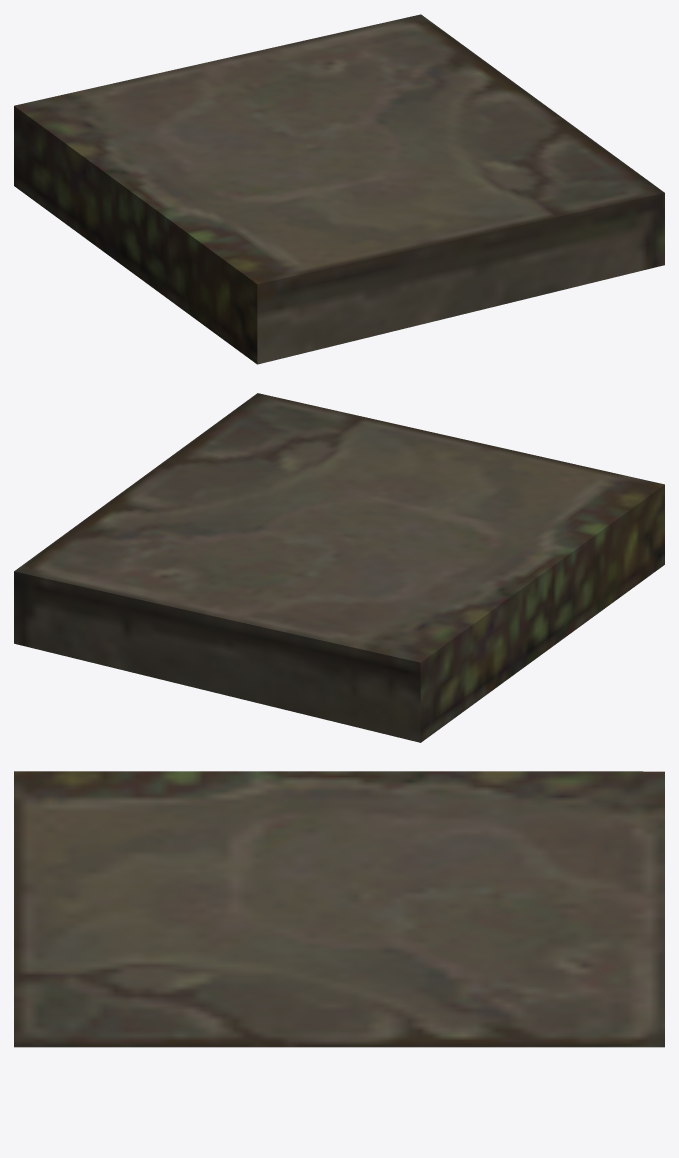
The model's file is s7_fightpve_dizhuan01.FBX.
The picture shows the model from 3 angles, top to bottom: view 1: azimuth 30°, elevation 25°; view 2: azimuth 150°, elevation 25°; view 3: azimuth 270°, elevation 25°; orthographic projection. The views are drawn at different scales.
Parts seen in each view (by area): view 1: Object02; view 2: Object02; view 3: Object02.
Boxes of the visible parts, box(x1,y1,x2,y2) form: Object02: box(14, 14, 664, 364); Object02: box(14, 393, 664, 742); Object02: box(14, 771, 664, 1047).
Size of the model in its own units: 1.02 by 0.1928 by 1.06.
